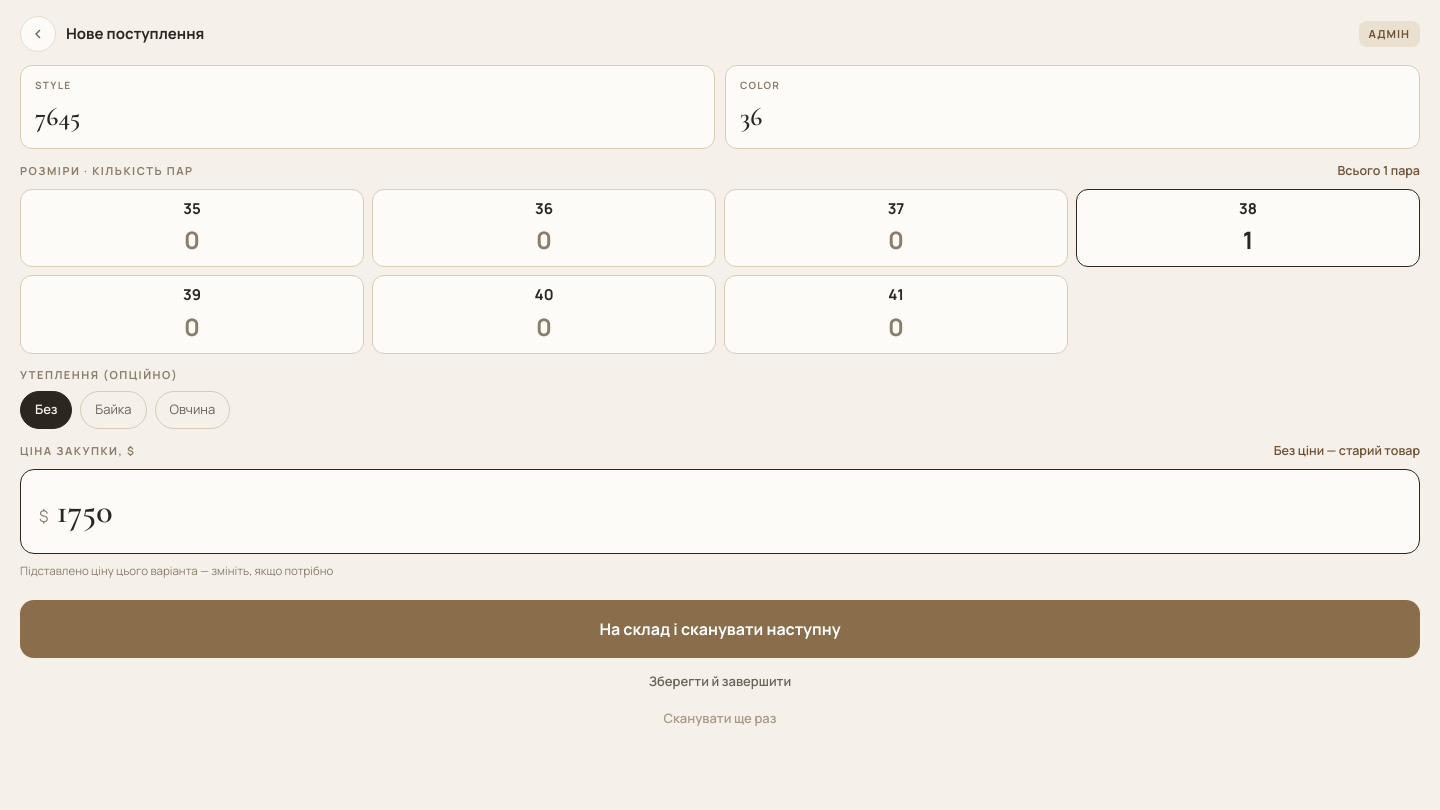
it: ConfirmForm › підказка ціни закупки (FR-D-08) › зміна style на невідомий варіант очищає підставлену ціну
expect the field with placeholder "Ціна" holds "1750": met, box [56, 486, 1401, 536]
Step 1. Replace the text in the field labelled "STYLE" with "9999" → x=368, y=116, box [35, 97, 700, 136]
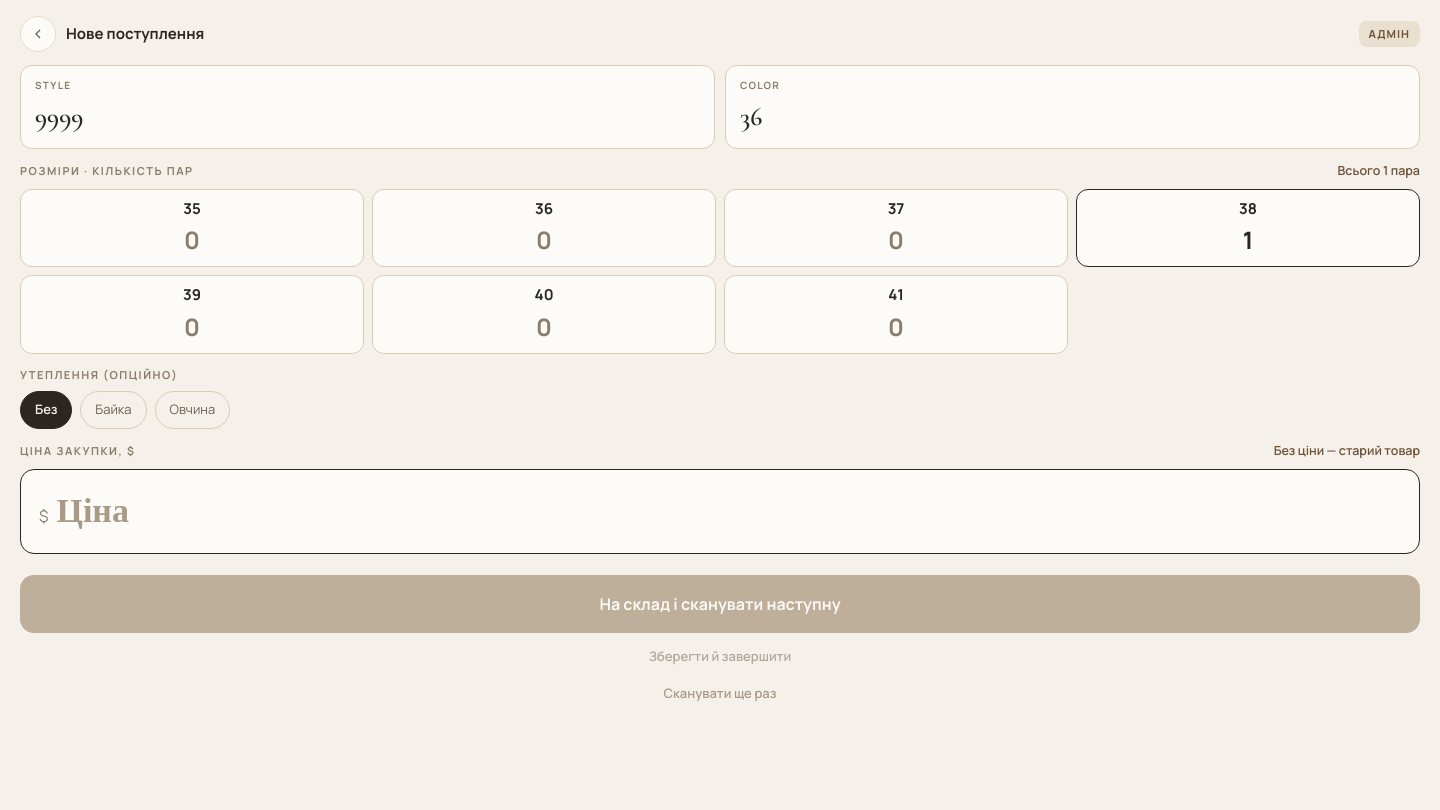
expect the field with placeholder "Ціна" is empty: met, box [56, 486, 1401, 536]
expect the text "Підставлено ціну цього варіанта" is gone: met
